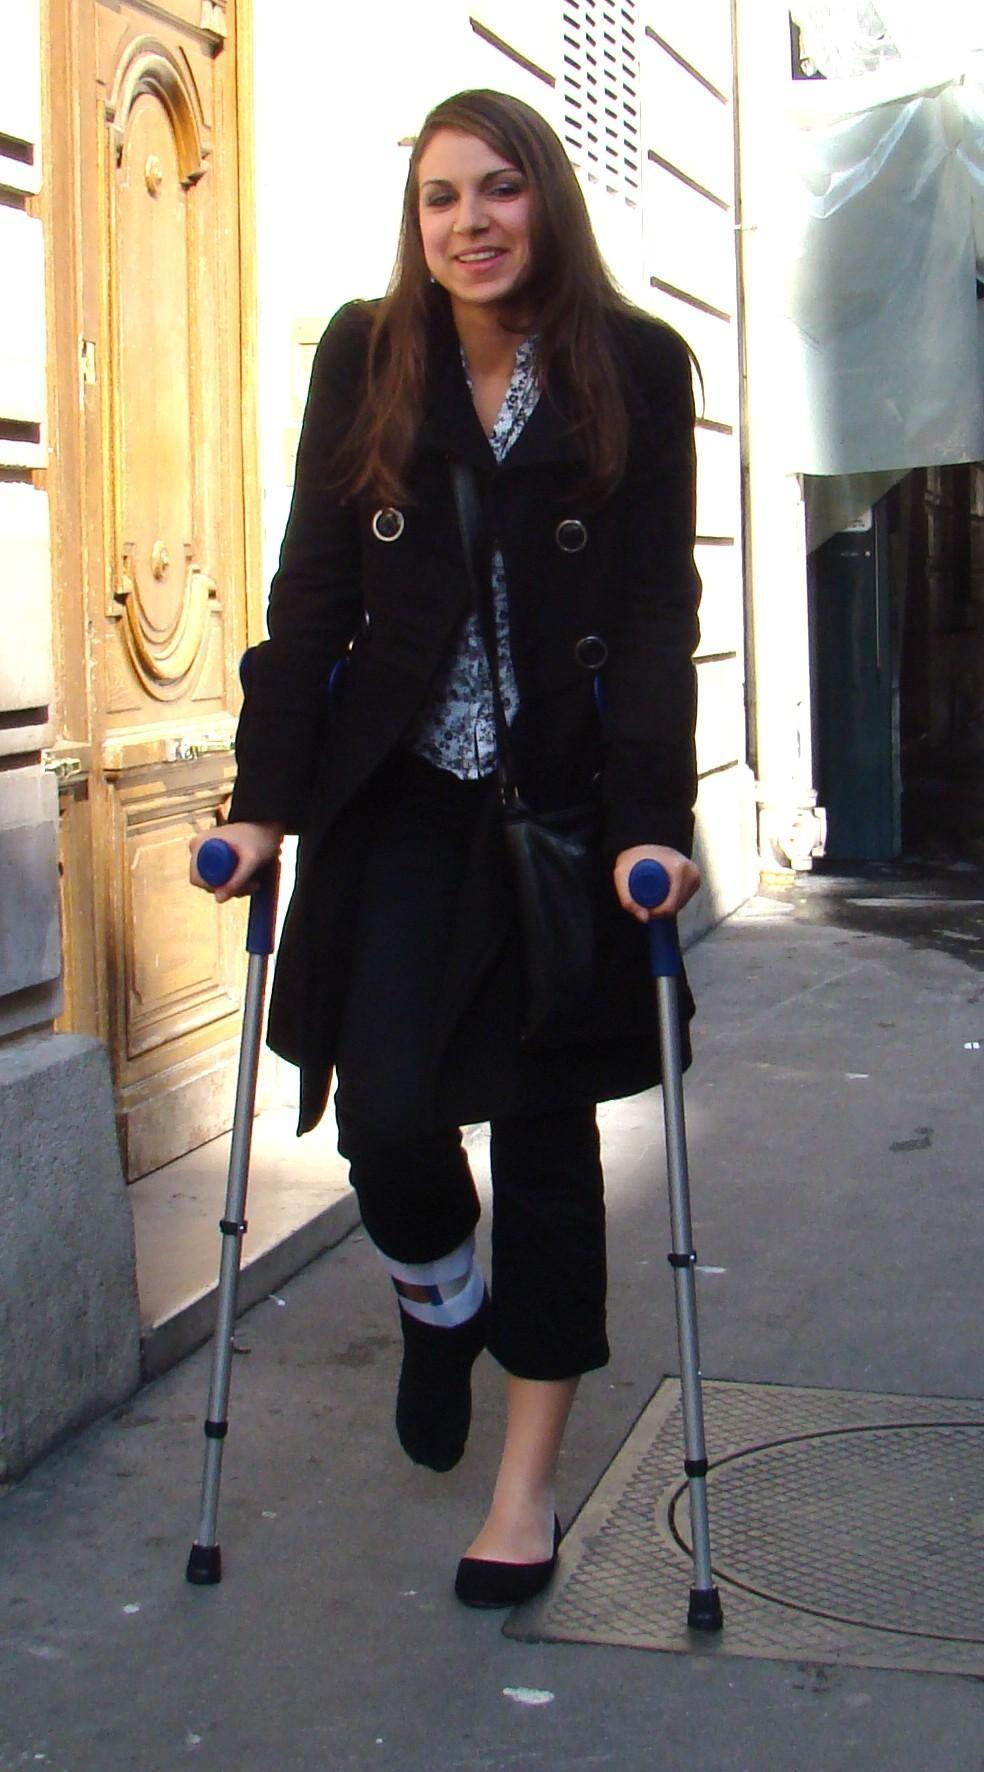crutches: (185, 92, 727, 1638)
